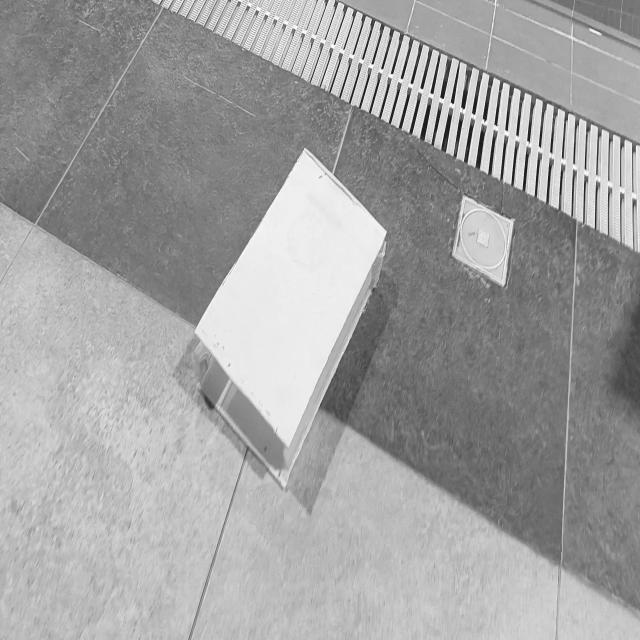Cuboid: (192, 145, 388, 489)
